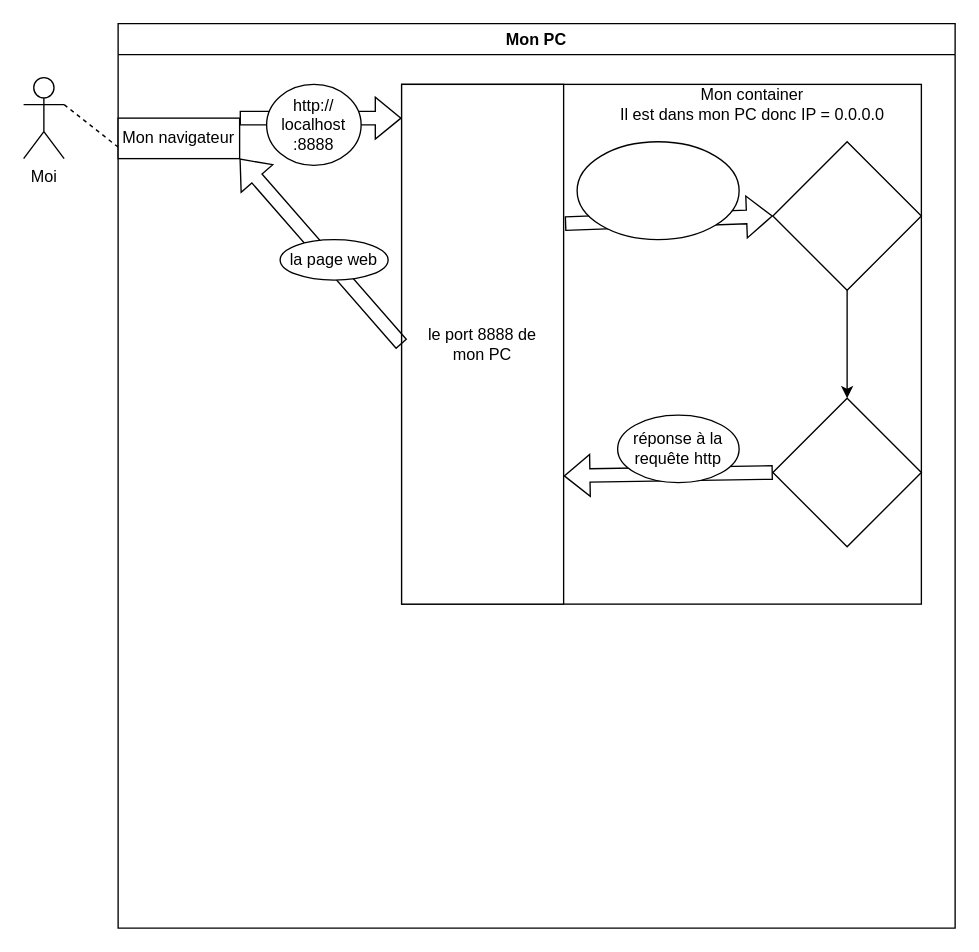
Some shapes in this 979 by 952 pixel diagram are drawn without their labels. Each missing label, with the centre of its shape:
"App file" goes at pixel 846 472.
"docker file" goes at pixel 846 215.
"le conteneur écoute les requêtes sur le port" goes at pixel 657 190.
